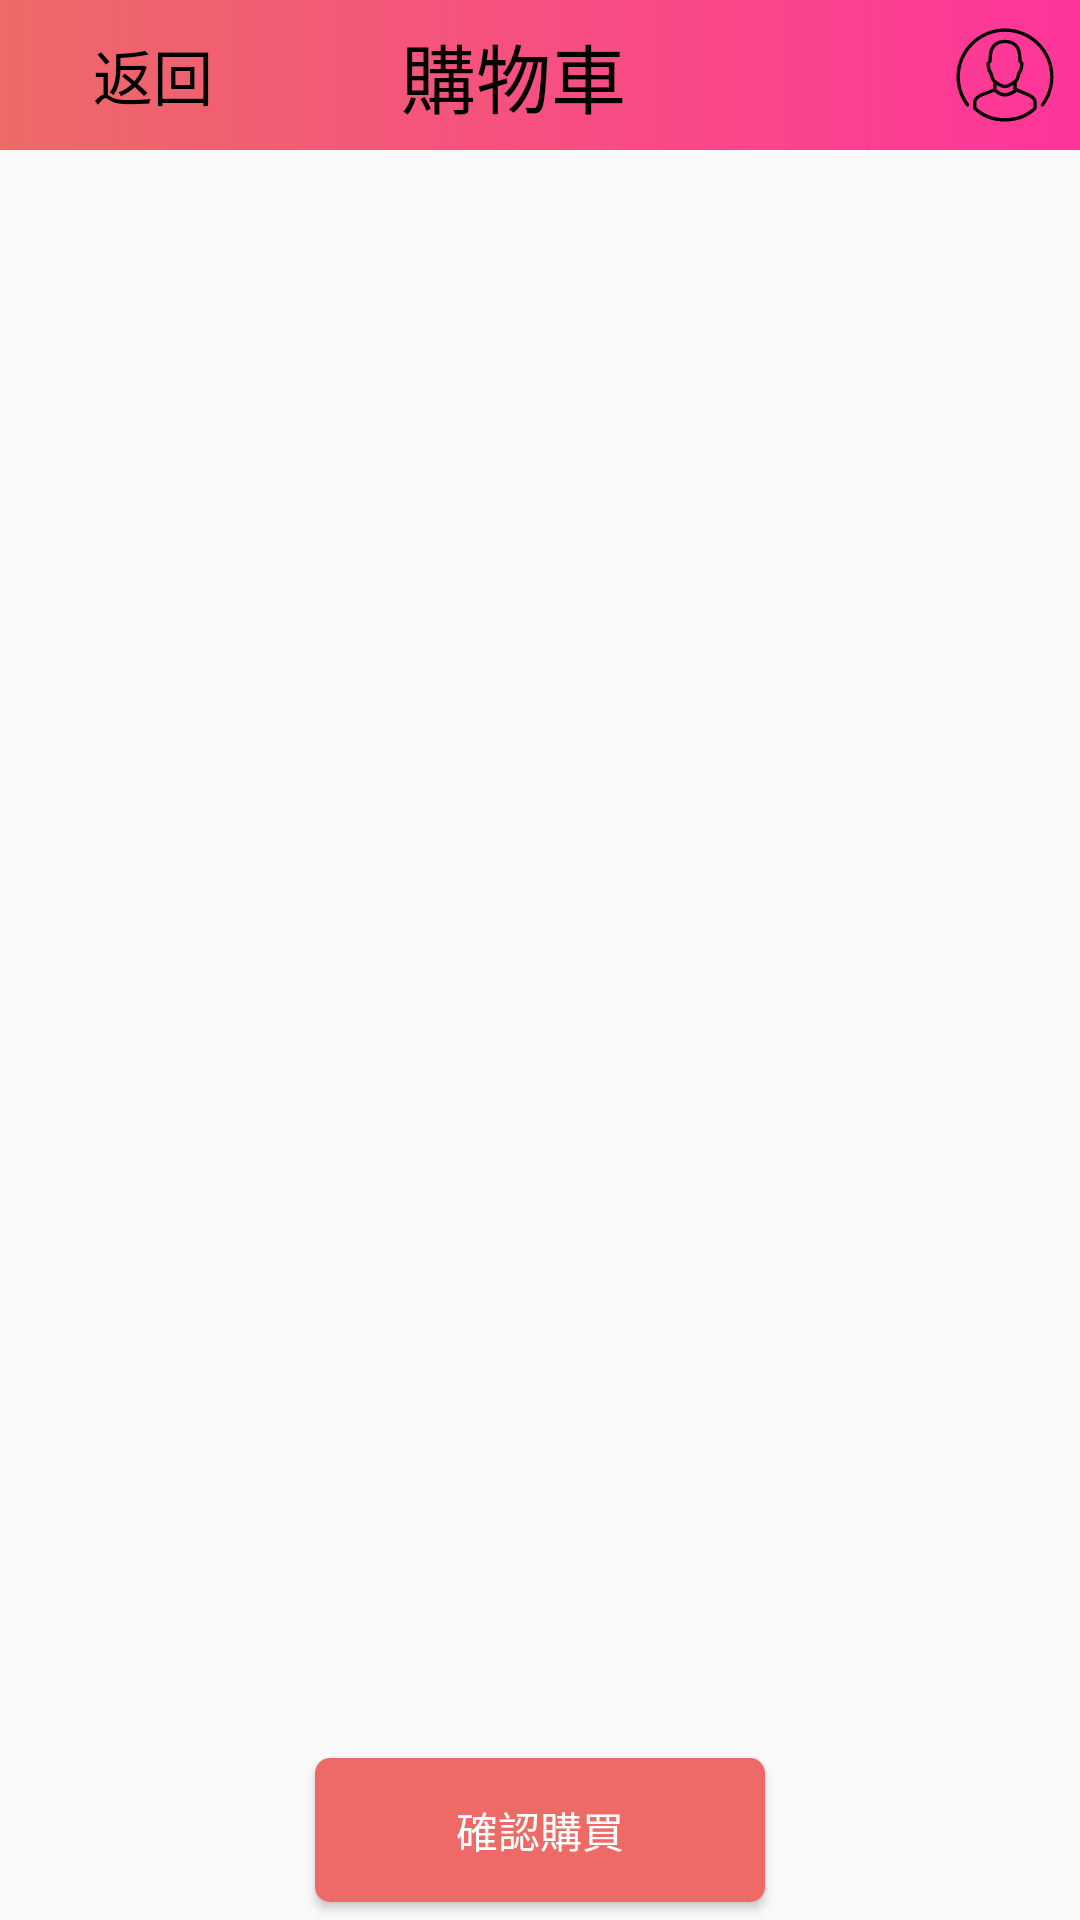

Screen size 1080x1920. Icon name, then its box in pixels as rect(x1, y1, x2, y2):
account: rect(956, 28, 1054, 122)
